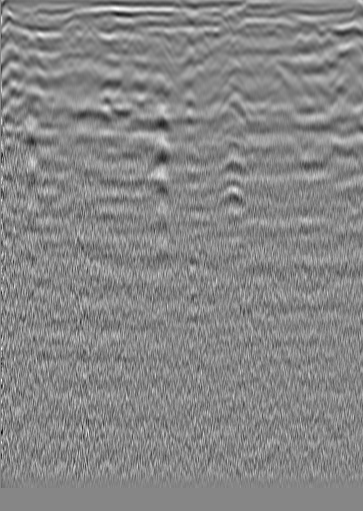가스: (208, 156, 256, 191)
상수: (303, 27, 323, 47)
오수: (24, 28, 44, 48)
우수: (174, 26, 194, 46)
